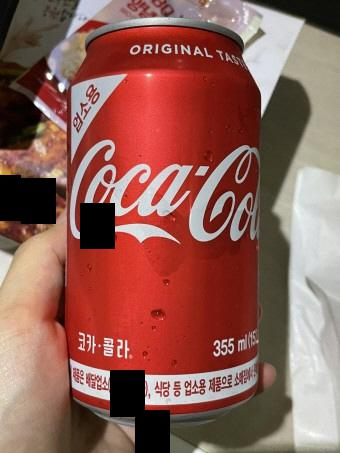cocacola: (65, 11, 265, 432)
